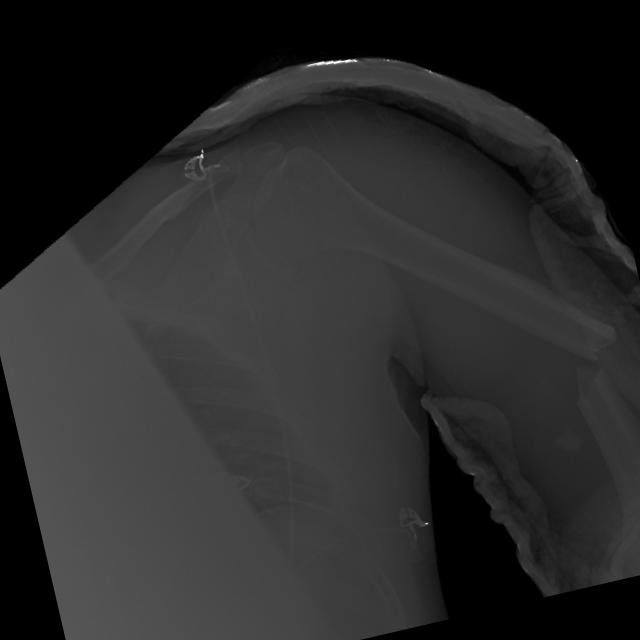humerus fracture: (476, 258, 640, 480)
